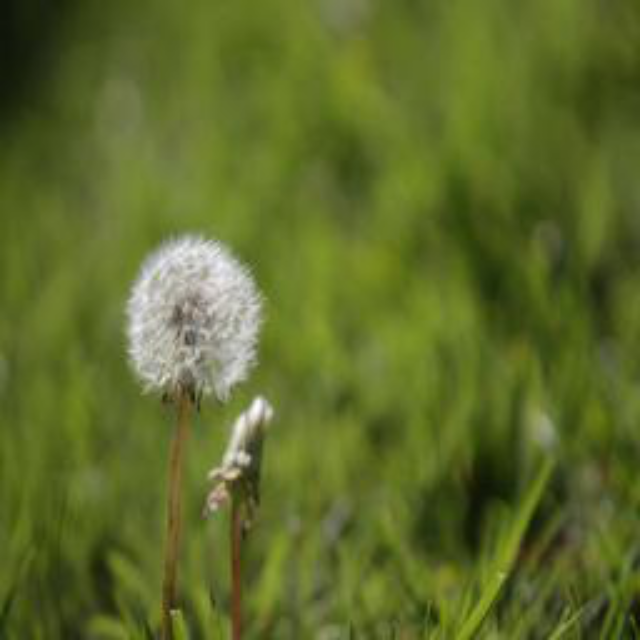dandelion: (116, 229, 276, 425)
